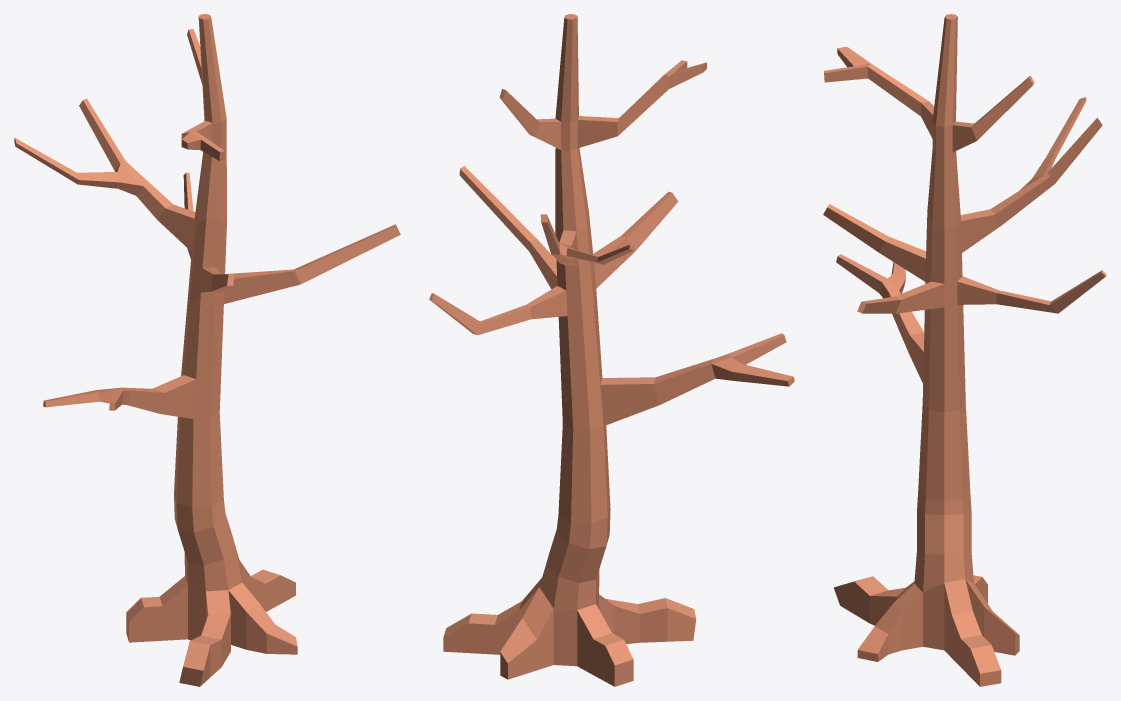
The model's file is TreeCedarTrunkA.glb.
The picture shows the model from 3 angles, left to right: view 1: azimuth 30°, elevation 25°; view 2: azimuth 150°, elevation 25°; view 3: azimuth 270°, elevation 25°; orthographic projection. The views are drawn at different scales.
Parts seen in each view (by area): view 1: Cylinder; view 2: Cylinder; view 3: Cylinder.
Part boxes in pixels (x1,y1,x2,y2): Cylinder: [14, 14, 400, 686]; Cylinder: [429, 14, 794, 686]; Cylinder: [823, 14, 1106, 686].
Bounding box in the file's own units: 11.72 × 20.47 × 8.48.
